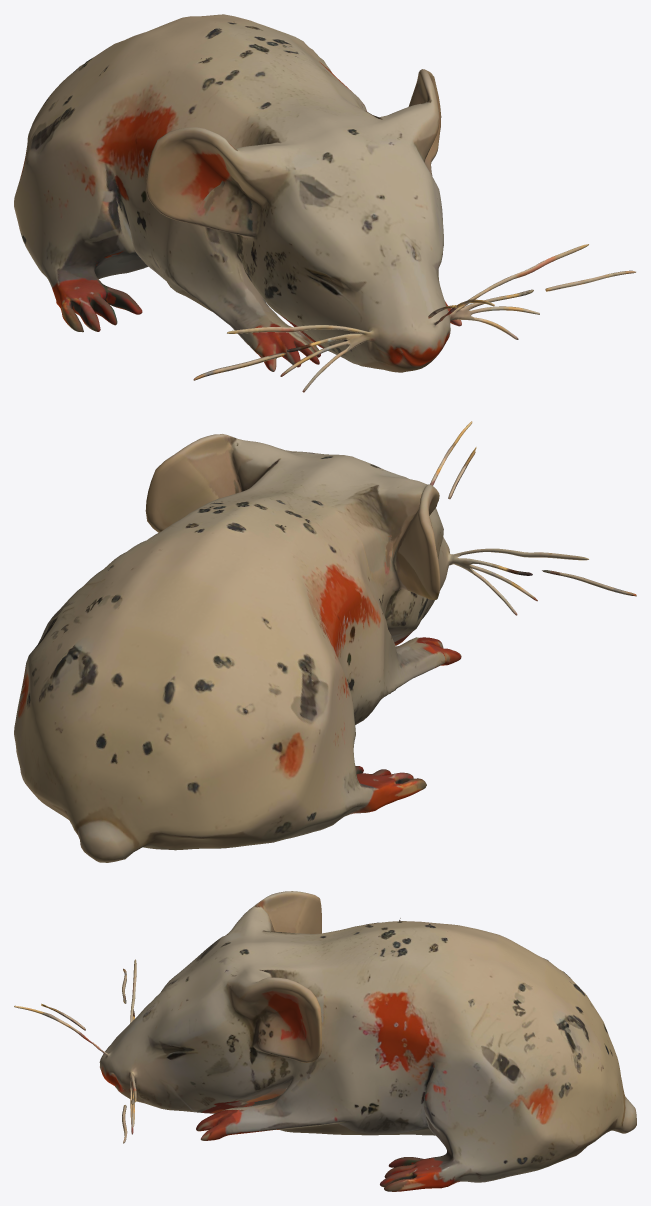
File: Model_mouse.fbx
The picture shows the model from 3 angles, top to bottom: view 1: azimuth 30°, elevation 25°; view 2: azimuth 150°, elevation 25°; view 3: azimuth 270°, elevation 25°; orthographic projection. The views are drawn at different scales.
Visible parts, largest first — view 1: tripo_node_e3e2fa9d; view 2: tripo_node_e3e2fa9d; view 3: tripo_node_e3e2fa9d.
Part boxes in pixels (x1,y1,x2,y2): tripo_node_e3e2fa9d: (14, 14, 635, 392); tripo_node_e3e2fa9d: (14, 421, 636, 862); tripo_node_e3e2fa9d: (14, 891, 636, 1191).
Size of the model in its own units: 65.66 by 36.08 by 99.2.
Materials: 1 (1 with a texture image).
